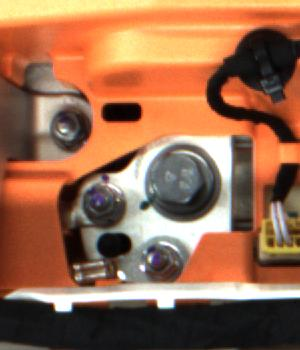nut_b: (143, 137, 232, 224)
screw_s: (139, 241, 187, 279), (75, 178, 115, 220), (49, 109, 82, 147)
